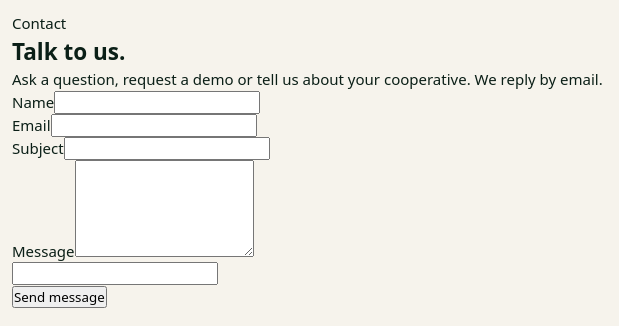
Contact form › asks for every field before sending anything
Step 1. Click the button "Send message" → (59, 297), box [12,286,107,308]
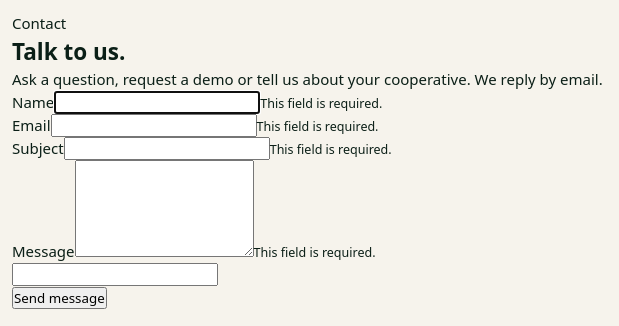
Now the text "This field is required." is shown 4 times, box [260,95,382,112]; [256,118,378,135]; [270,141,392,158]; [254,244,376,261]
